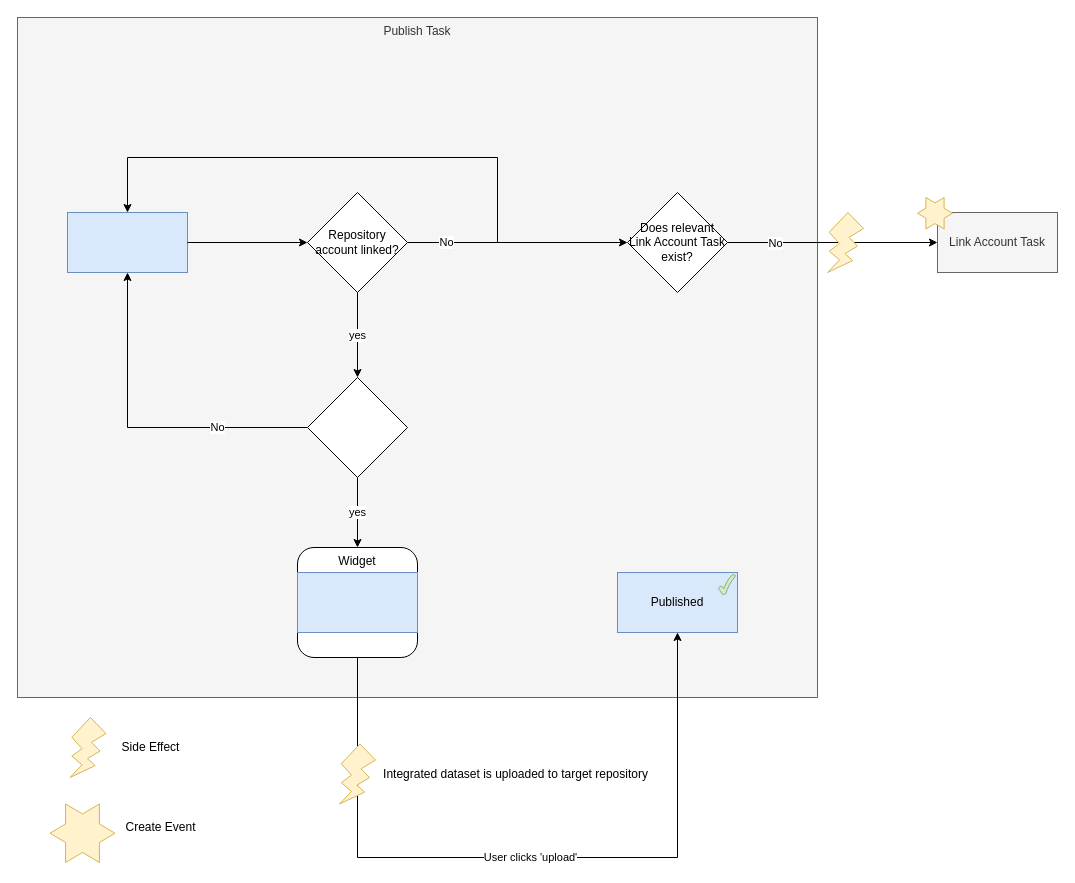
This 1075x883 diagram has some shape labels left out. Here are the shapes that lost their labels. From the top down, the centre of each, then its label:
the point at 127,242: Active
the point at 357,427: Required metadata fields completed?
the point at 357,602: Ready
